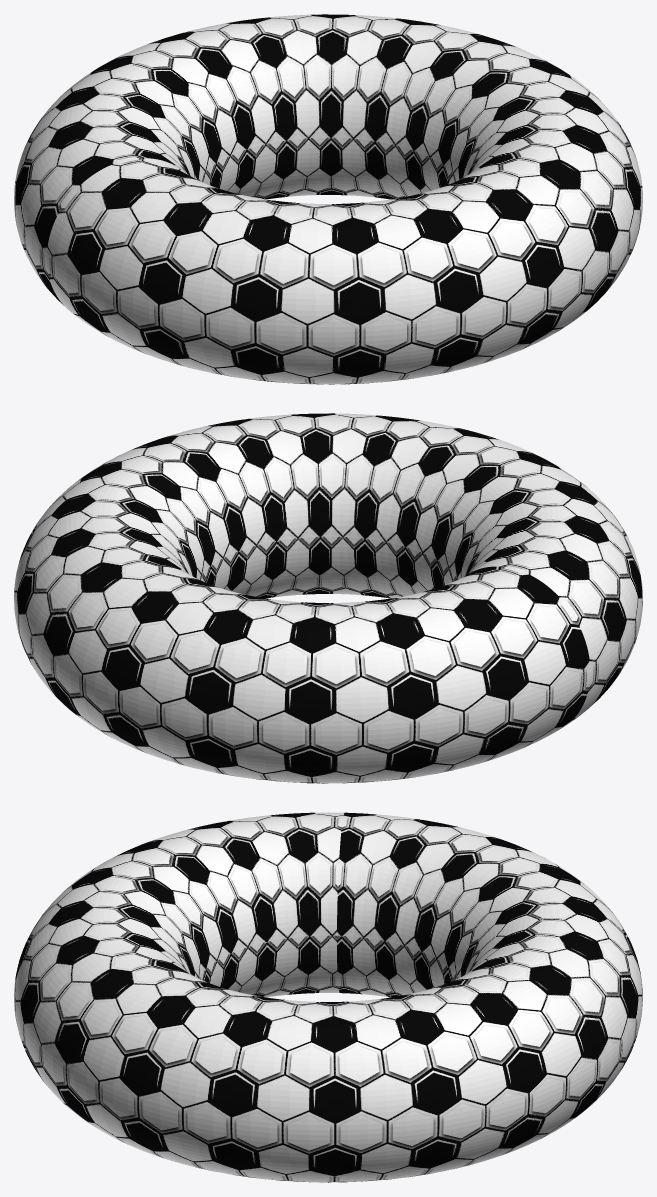
Rendered from size 2.glb.
3 renders of one model, top to bottom at view 1: azimuth 30°, elevation 25°; view 2: azimuth 150°, elevation 25°; view 3: azimuth 270°, elevation 25°, orthographic.
Parts seen in each view (by area): view 1: Torus.004; view 2: Torus.004; view 3: Torus.004.
Part boxes in pixels (bbox=[...]): Torus.004: bbox=[14, 14, 642, 384]; Torus.004: bbox=[14, 413, 642, 783]; Torus.004: bbox=[14, 812, 642, 1182].
Size of the model in its own units: 0.488 by 0.14 by 0.488.
1 material, 1 textured.
